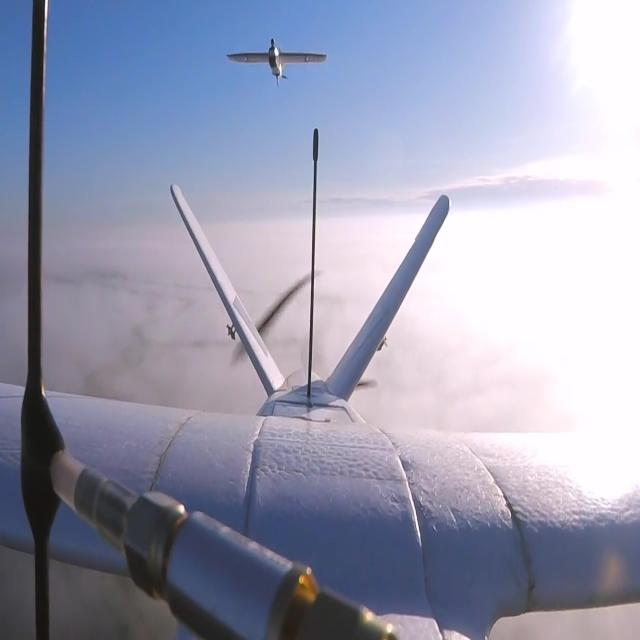iha: (256, 35, 297, 90)
